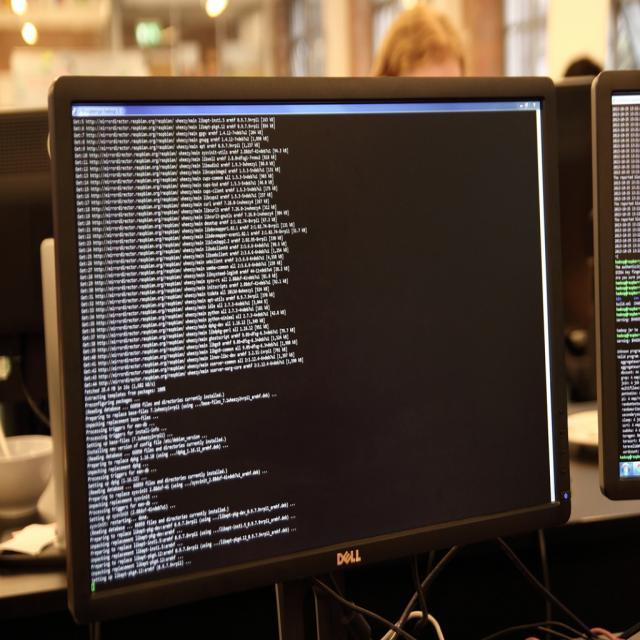others: (56, 61, 586, 624)
